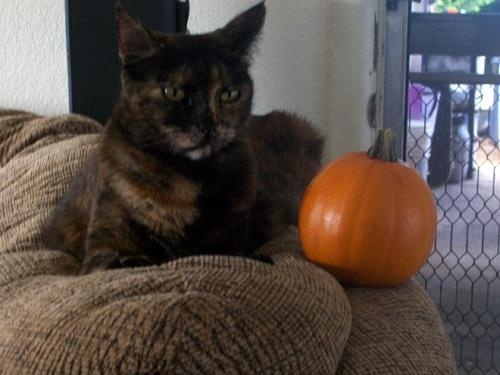cat: (36, 1, 329, 273)
